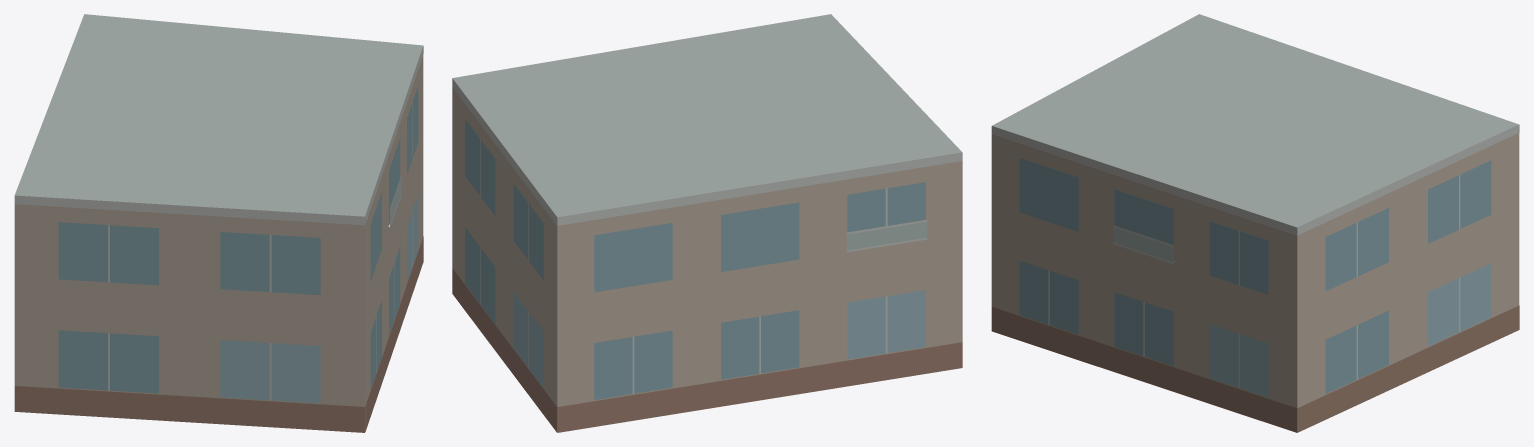
The model's file is survey-upis-32945896.glb.
The picture shows the model from 3 angles, left to right: view 1: azimuth 30°, elevation 25°; view 2: azimuth 150°, elevation 25°; view 3: azimuth 270°, elevation 25°; orthographic projection. The views are drawn at different scales.
Visible parts, largest first — view 1: survey-upis-32945896.tmp; view 2: survey-upis-32945896.tmp; view 3: survey-upis-32945896.tmp.
Part boxes in pixels (x1,y1,x2,y2): survey-upis-32945896.tmp: (14,14,423,432); survey-upis-32945896.tmp: (452,14,962,432); survey-upis-32945896.tmp: (991,14,1519,432).
Size of the model in its own units: 13.6 by 6.1 by 14.21.
